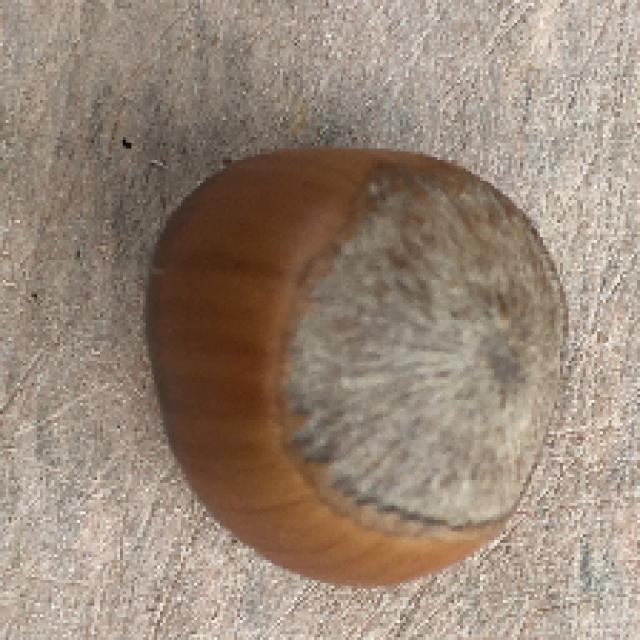qualityHazelnut: (116, 128, 578, 598)
